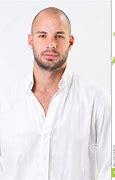person: (28, 6, 75, 72)
